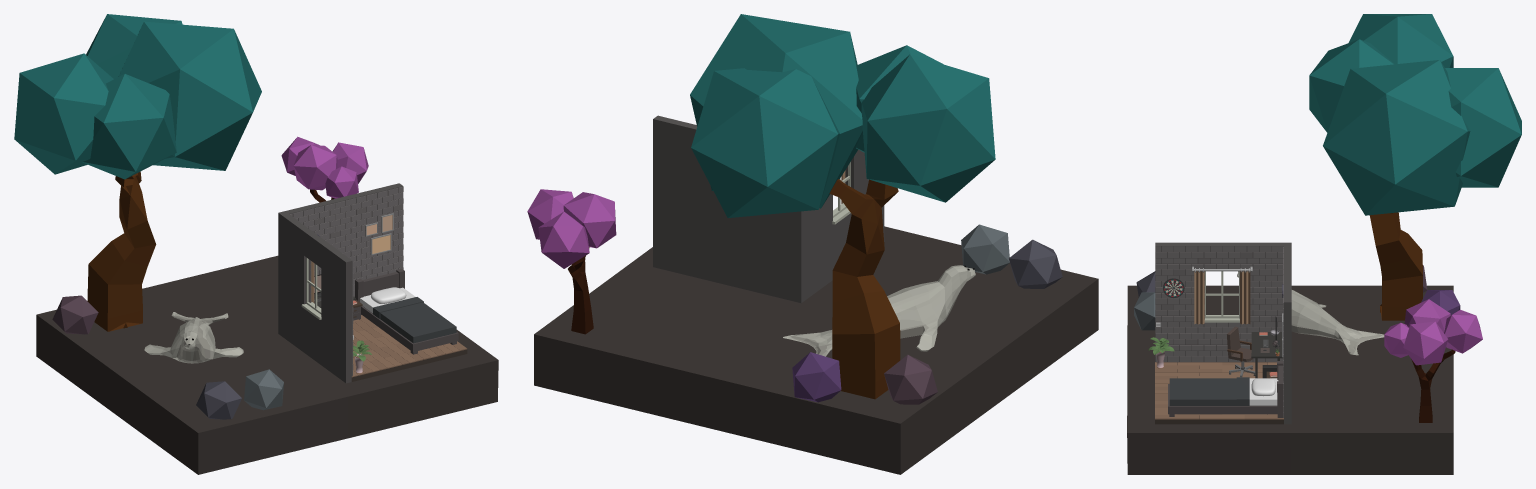
The model's file is SolitarinessRoom.gltf.
The picture shows the model from 3 angles, left to right: view 1: azimuth 30°, elevation 25°; view 2: azimuth 150°, elevation 25°; view 3: azimuth 270°, elevation 25°; orthographic projection. The views are drawn at different scales.
Visible parts, largest first — view 1: NewPlate, leaves1, Wall_02, leaves3, leaves4, tree, Wall_01, Bed, Floor, leaves2, Seal, Icosphere.002 (+6 smaller); view 2: NewPlate, leaves2, leaves3, Wall_01, tree, leaves1, Wall_02, Seal, Icosphere.003, leaves3.003, leaves3.002, leaves3.004 (+5 smaller); view 3: NewPlate, leaves1, Wall_02, leaves2, Bed, tree, leaves3, Floor, leaves4, Seal, Wall_01, Icosphere.001 (+10 smaller).
Part boxes in pixels (bbox=[...]): NewPlate: bbox=[36, 255, 498, 474]; leaves1: bbox=[118, 21, 261, 170]; Wall_02: bbox=[278, 211, 353, 383]; leaves3: bbox=[14, 53, 113, 174]; leaves4: bbox=[82, 74, 176, 179]; tree: bbox=[87, 171, 156, 331]; Wall_01: bbox=[284, 183, 403, 296]; Bed: bbox=[355, 268, 458, 354]; Floor: bbox=[351, 315, 467, 381]; leaves2: bbox=[86, 14, 182, 78]; Seal: bbox=[144, 312, 243, 363]; Icosphere.002: bbox=[293, 145, 337, 190]; NewPlate: bbox=[534, 226, 1098, 474]; leaves2: bbox=[691, 68, 839, 217]; leaves3: bbox=[861, 54, 995, 202]; Wall_01: bbox=[653, 115, 792, 300]; tree: bbox=[829, 179, 900, 399]; leaves1: bbox=[690, 14, 862, 208]; Wall_02: bbox=[793, 149, 884, 302]; Seal: bbox=[783, 265, 975, 356]; Icosphere.003: bbox=[538, 211, 589, 268]; leaves3.003: bbox=[792, 352, 841, 402]; leaves3.002: bbox=[884, 354, 937, 404]; leaves3.004: bbox=[961, 224, 1009, 274]; NewPlate: bbox=[1127, 285, 1453, 474]; leaves1: bbox=[1323, 60, 1470, 215]; Wall_02: bbox=[1155, 242, 1291, 362]; leaves2: bbox=[1445, 68, 1521, 187]; Bed: bbox=[1168, 361, 1283, 417]; tree: bbox=[1369, 212, 1422, 320]; leaves3: bbox=[1348, 14, 1453, 67]; Floor: bbox=[1155, 362, 1283, 424]; leaves4: bbox=[1309, 39, 1394, 132]; Seal: bbox=[1237, 271, 1384, 355]; Wall_01: bbox=[1283, 246, 1291, 424]; Icosphere.001: bbox=[1403, 321, 1448, 365].
Bounding box in the file's own units: 8.72 × 7.22 × 8.05.
